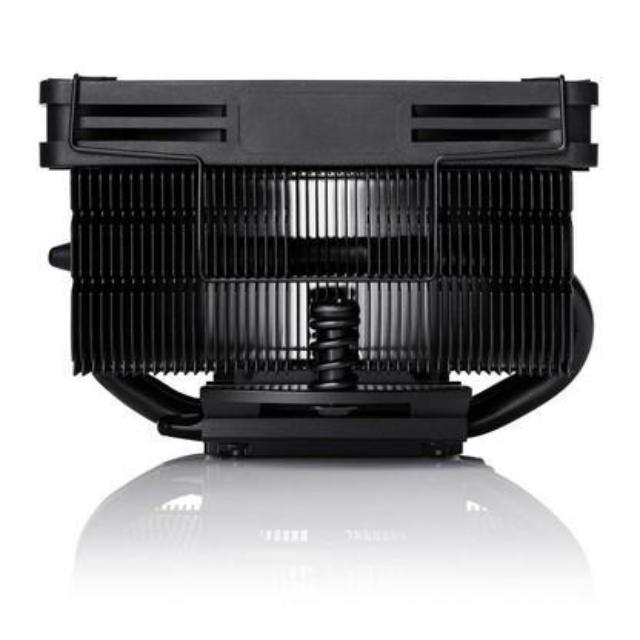CPU_Fan: (38, 55, 606, 477)
